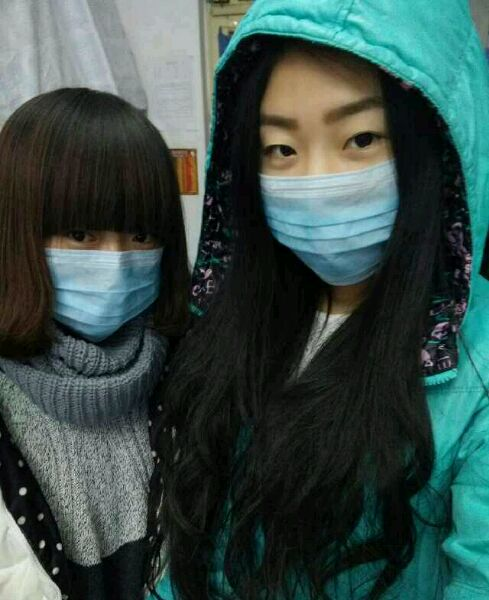face_mask: (252, 28, 410, 283), (39, 172, 159, 338)
